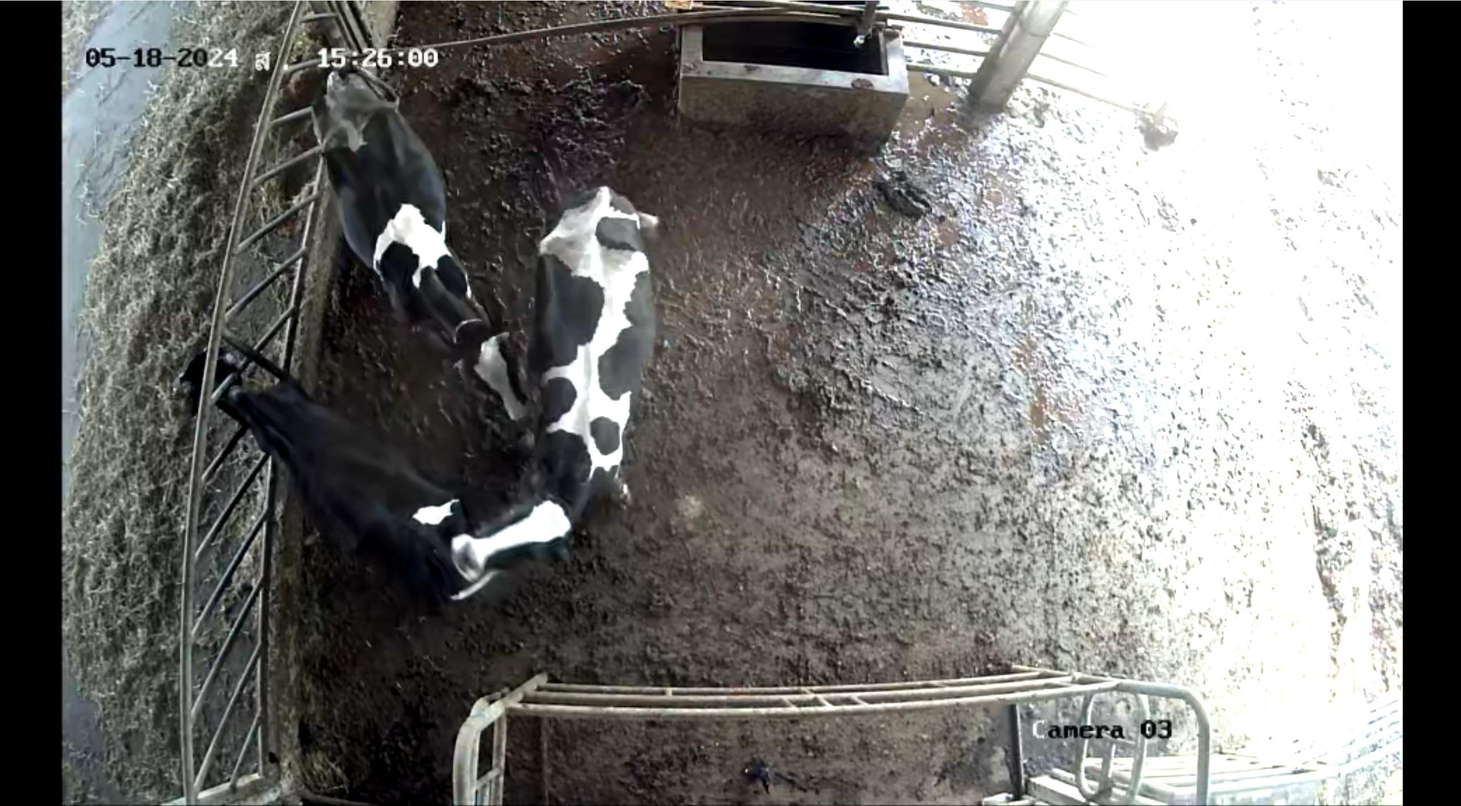eat: (152, 341, 297, 442)
propping: (393, 476, 596, 602)
stand: (304, 62, 526, 424)
